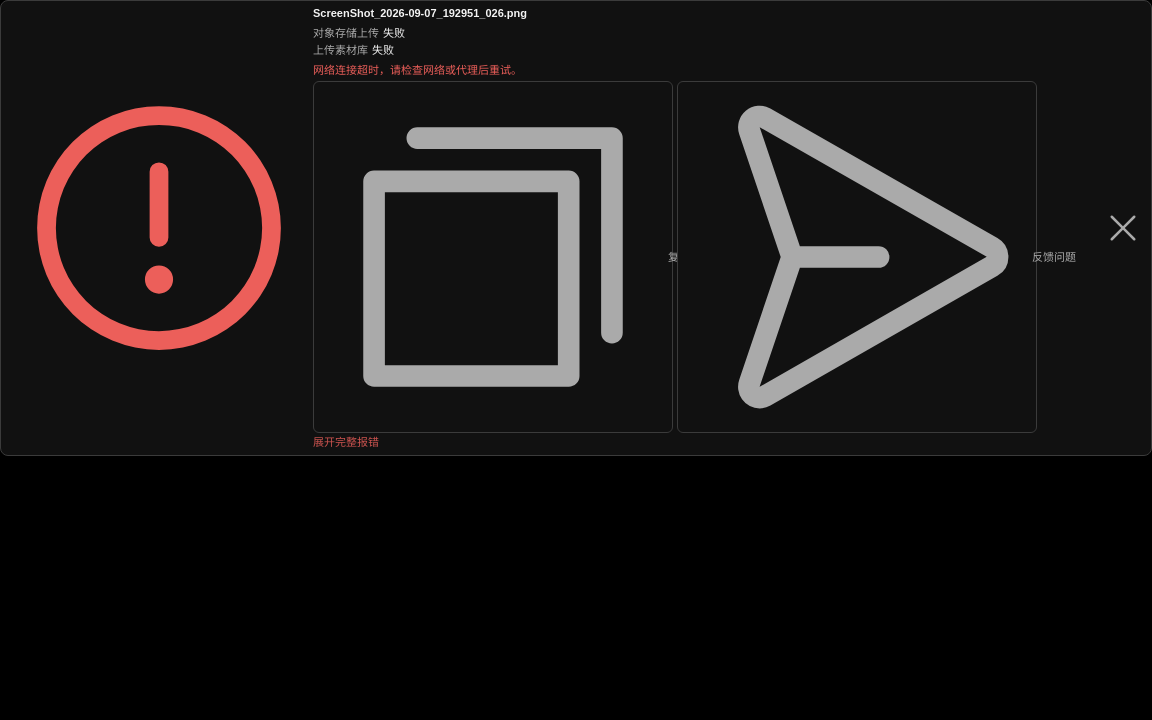
it: 上传失败提示 › 连接超时给出可操作摘要，展开后保留完整原始错误
The image size is (1152, 720).
Expected: the message reads "网络连接超时，请检查网络或代理后重试。", [313,64,522,76]
What coordinates should you click on to do the following:
click the button "展开完整报错"
I would click on:
 (346, 443)
Its box is [313,435,379,451].
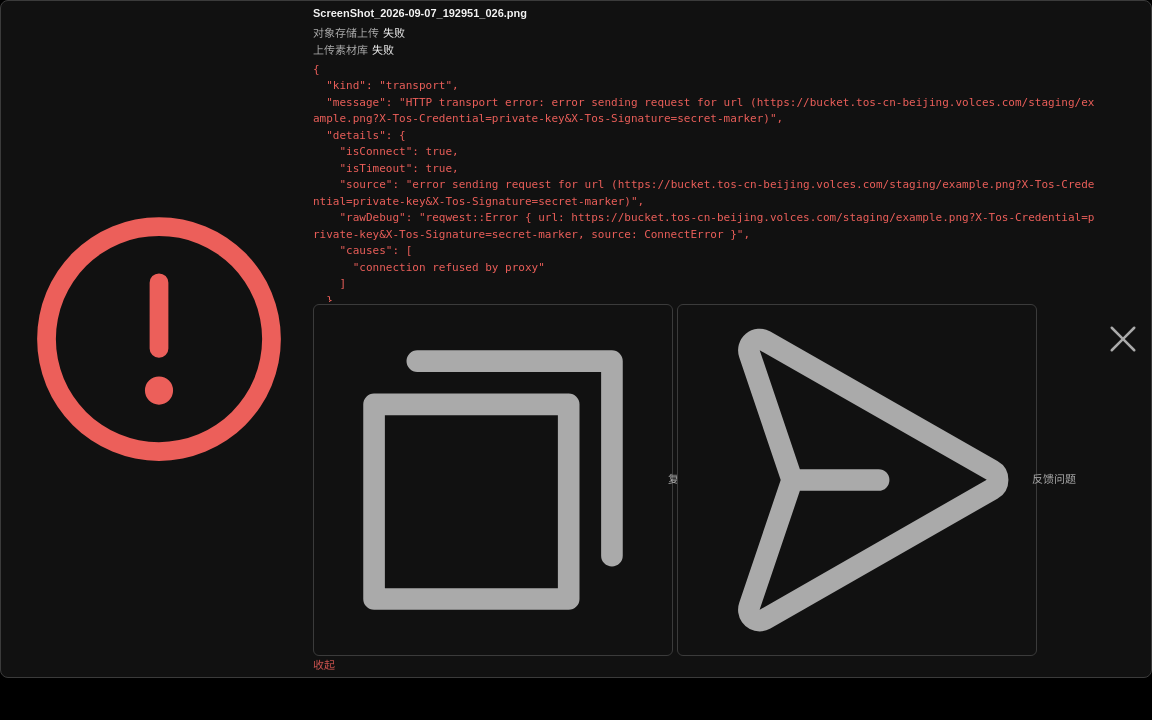
Expected: the message shows "secret-marker", [313,63,1094,323]
Expected: the message shows "private-key", [313,63,1094,323]
Expected: the message shows "\"isTimeout\": true", [313,63,1094,323]
